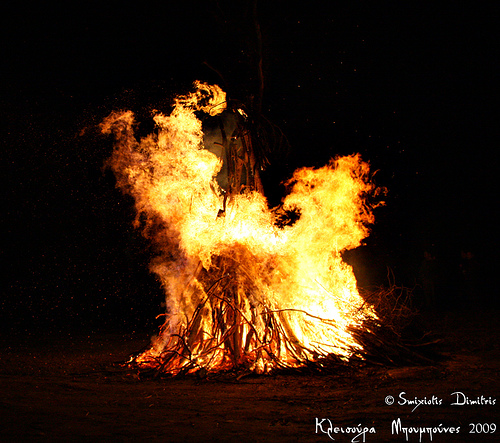fire: (95, 98, 380, 370)
